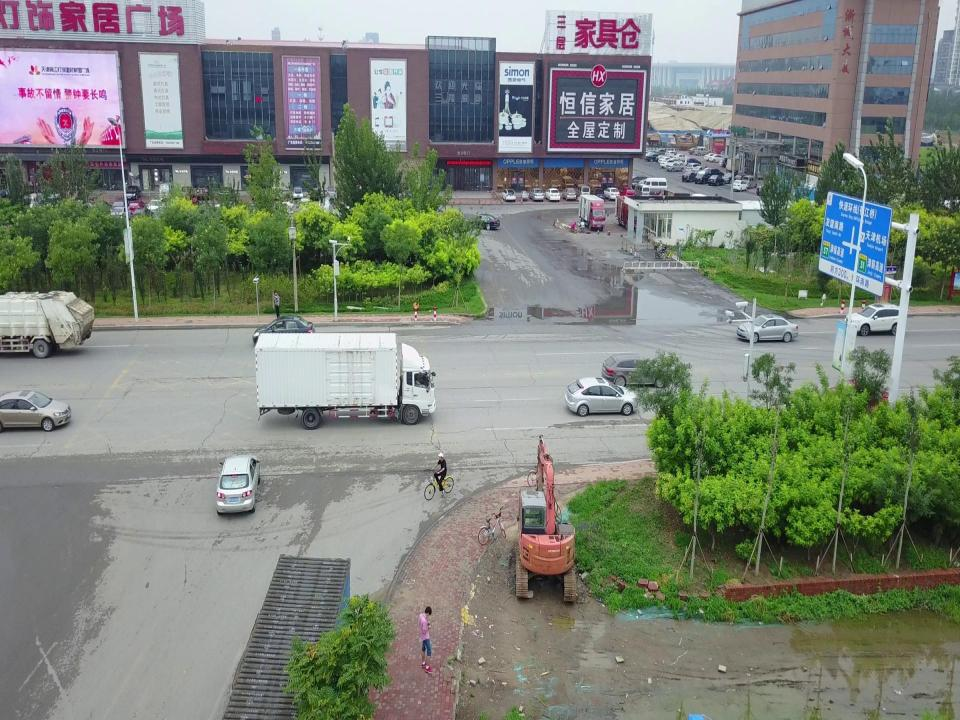car: (0, 389, 72, 434), (564, 376, 640, 416), (216, 454, 260, 515), (601, 354, 673, 389), (844, 303, 906, 336), (252, 315, 316, 346), (736, 314, 799, 344), (467, 214, 501, 231), (146, 197, 166, 217), (109, 200, 132, 217), (131, 208, 154, 224), (109, 206, 131, 221), (127, 200, 147, 216), (124, 185, 142, 200), (697, 167, 719, 179), (196, 184, 212, 200), (691, 166, 713, 177), (590, 188, 606, 203), (694, 173, 714, 185), (603, 187, 620, 201), (756, 184, 774, 197), (705, 168, 725, 179), (545, 188, 560, 202), (219, 187, 235, 200), (618, 187, 635, 199), (707, 175, 725, 186), (682, 171, 700, 182), (181, 185, 195, 199), (502, 188, 516, 202), (562, 187, 576, 201), (529, 188, 544, 201), (686, 163, 704, 173), (665, 163, 685, 172), (660, 159, 678, 169), (718, 158, 738, 167), (732, 180, 748, 191), (733, 174, 749, 185), (722, 172, 738, 183), (269, 187, 283, 199), (292, 186, 304, 200), (658, 156, 676, 165), (672, 153, 690, 162), (645, 153, 663, 162), (685, 157, 701, 167), (667, 158, 683, 167), (656, 155, 674, 163), (664, 150, 680, 159), (687, 148, 705, 156), (708, 154, 726, 162), (704, 153, 721, 161), (646, 152, 662, 160), (655, 149, 670, 157), (396, 192, 404, 201)
truck: (255, 333, 436, 430), (0, 290, 95, 358), (614, 195, 646, 231), (578, 195, 608, 231)
van: (634, 177, 668, 195), (20, 192, 44, 215), (159, 182, 175, 199), (634, 183, 650, 199), (318, 198, 332, 214), (576, 184, 590, 200), (742, 175, 758, 189), (630, 175, 648, 187), (300, 197, 312, 214), (326, 187, 338, 200), (694, 146, 708, 156), (404, 190, 412, 201)
